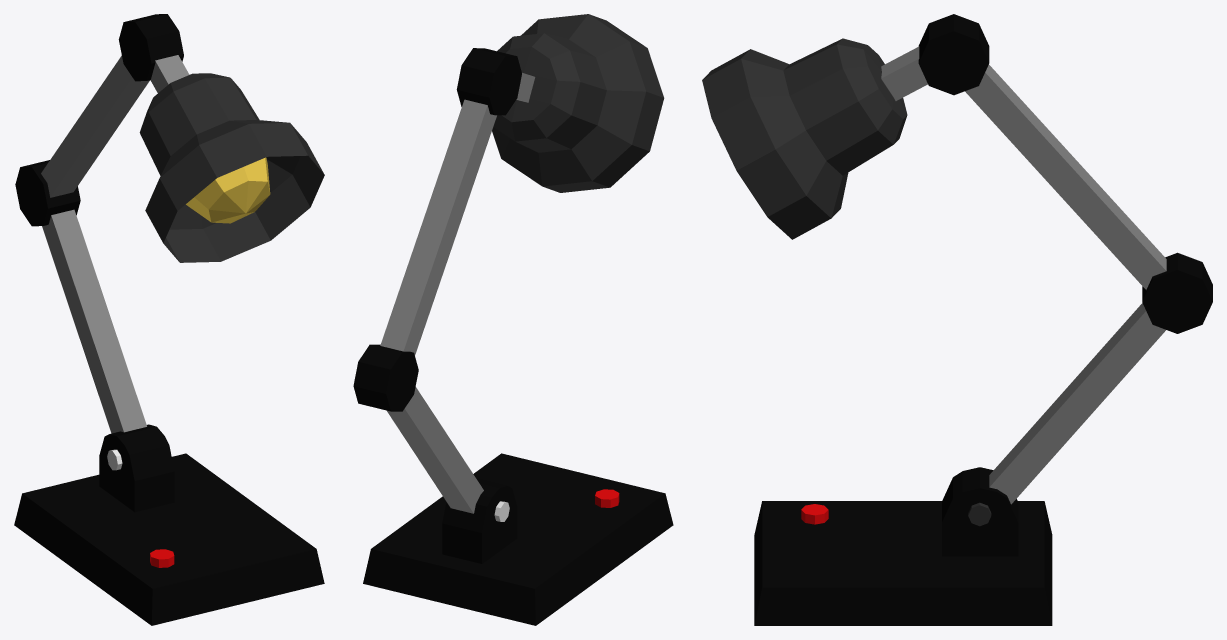
The model's file is DeskLamp.glb.
3 views of the same model, side by side, from view 1: azimuth 30°, elevation 25°; view 2: azimuth 150°, elevation 25°; view 3: azimuth 270°, elevation 25° (orthographic). The views are drawn at different scales.
Visible parts, largest first — view 1: Cube.016, Circle.010, Cube.017, Cube.018, Plane.026, Sphere.002, Circle.009, Circle.008, Cube.019; view 2: Cube.016, Circle.010, Cube.018, Cube.017, Plane.026, Circle.008, Circle.009; view 3: Cube.016, Circle.010, Cube.018, Cube.017, Plane.026, Circle.009, Circle.008, Cube.019.
Boxes of the visible parts, left/top/right/bottom form: Cube.016: left=14, top=453, right=324, bottom=625; Circle.010: left=139, top=73, right=324, bottom=262; Cube.017: left=42, top=209, right=146, bottom=433; Cube.018: left=41, top=55, right=149, bottom=197; Plane.026: left=99, top=424, right=174, bottom=512; Sphere.002: left=186, top=157, right=270, bottom=223; Circle.009: left=118, top=14, right=183, bottom=81; Circle.008: left=15, top=160, right=80, bottom=226; Cube.019: left=150, top=55, right=189, bottom=92; Cube.016: left=363, top=453, right=673, bottom=625; Circle.010: left=492, top=14, right=664, bottom=192; Cube.018: left=380, top=99, right=496, bottom=355; Cube.017: left=386, top=387, right=483, bottom=513; Plane.026: left=442, top=478, right=517, bottom=563; Circle.008: left=353, top=344, right=418, bottom=411; Circle.009: left=456, top=48, right=521, bottom=115; Cube.016: left=754, top=501, right=1052, bottom=625; Circle.010: left=702, top=38, right=907, bottom=239; Cube.018: left=965, top=64, right=1166, bottom=289; Cube.017: left=989, top=303, right=1165, bottom=504; Plane.026: left=942, top=467, right=1018, bottom=556; Circle.009: left=918, top=14, right=989, bottom=95; Circle.008: left=1142, top=252, right=1212, bottom=333; Cube.019: left=881, top=46, right=927, bottom=100.
Size of the model in its own units: 0.2957 by 0.8467 by 0.6995.
